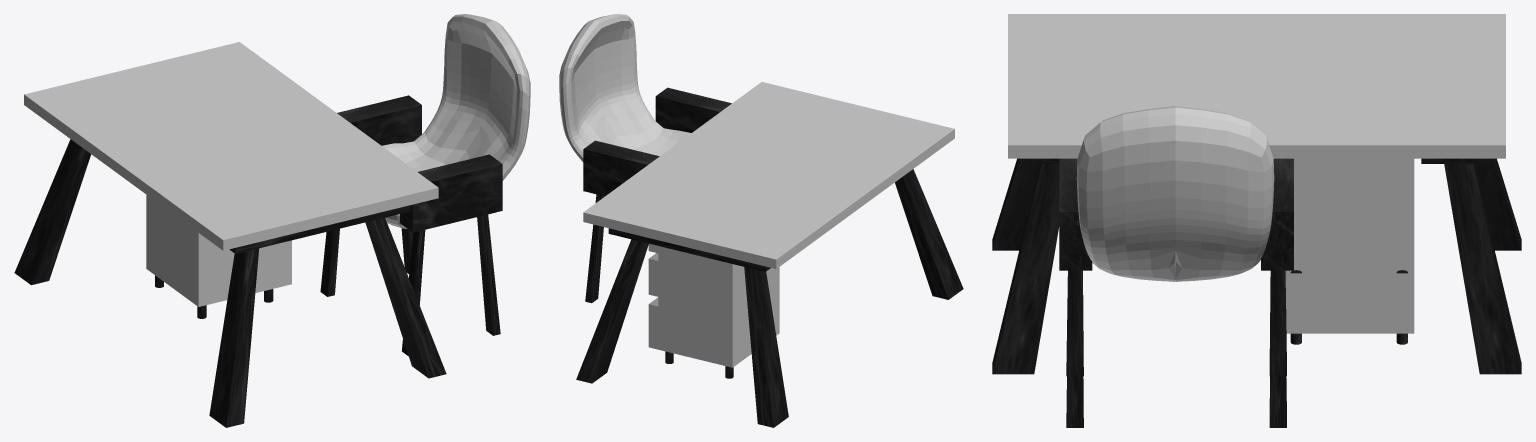
3 views of the same model, side by side, from view 1: azimuth 30°, elevation 25°; view 2: azimuth 150°, elevation 25°; view 3: azimuth 270°, elevation 25° (orthographic). The views are drawn at different scales.
Visible parts, largest first — view 1: 立方体, 立方体.001, 立方体.006, 立方体.007; view 2: 立方体, 立方体.001, 立方体.006, 立方体.007; view 3: 立方体, 立方体.001, 立方体.007, 立方体.006.
Boxes of the visible parts, <box> form: 立方体: <box>24,42,438,250</box>; 立方体.001: <box>320,14,530,355</box>; 立方体.006: <box>14,139,446,427</box>; 立方体.007: <box>146,195,291,318</box>; 立方体: <box>583,82,954,268</box>; 立方体.001: <box>559,14,731,303</box>; 立方体.006: <box>576,169,963,427</box>; 立方体.007: <box>648,243,779,378</box>; 立方体: <box>1008,14,1505,158</box>; 立方体.001: <box>1059,106,1293,427</box>; 立方体.007: <box>1285,158,1414,344</box>; 立方体.006: <box>992,158,1521,374</box>.
Bounding box in the file's own units: 784 × 575 × 809.
